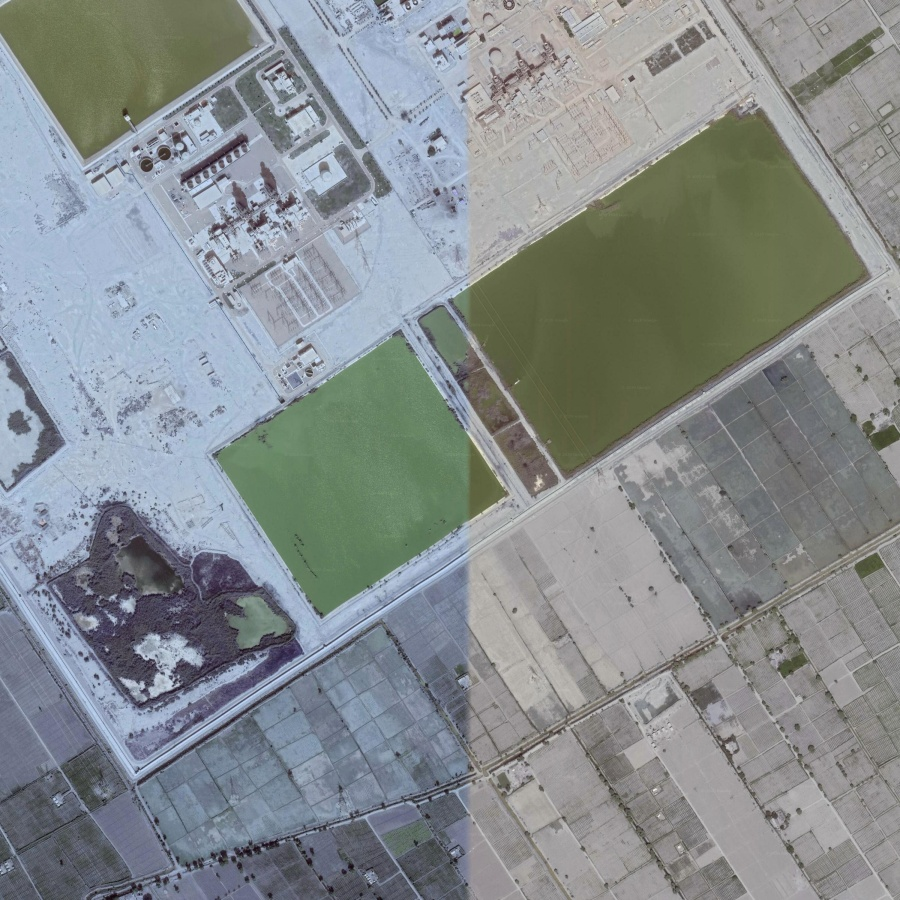PowerPlant: (136, 58, 378, 379)
